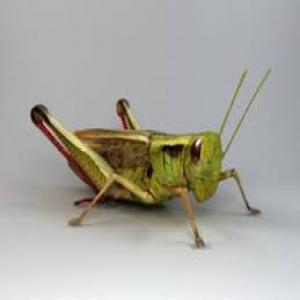locust: (53, 29, 277, 230)
